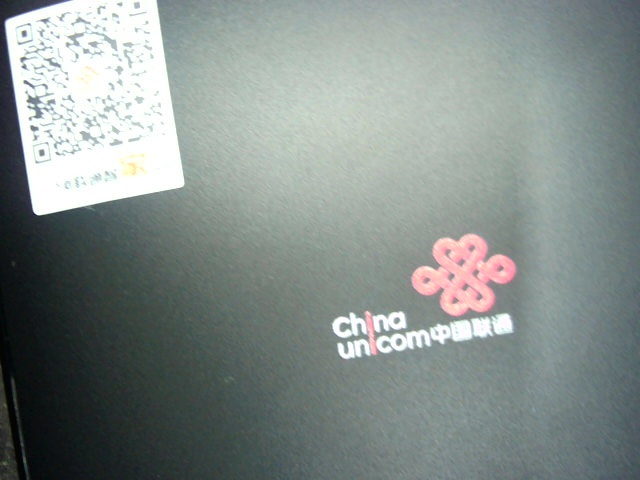AC_ChinaUnicom: (320, 230, 528, 361)
